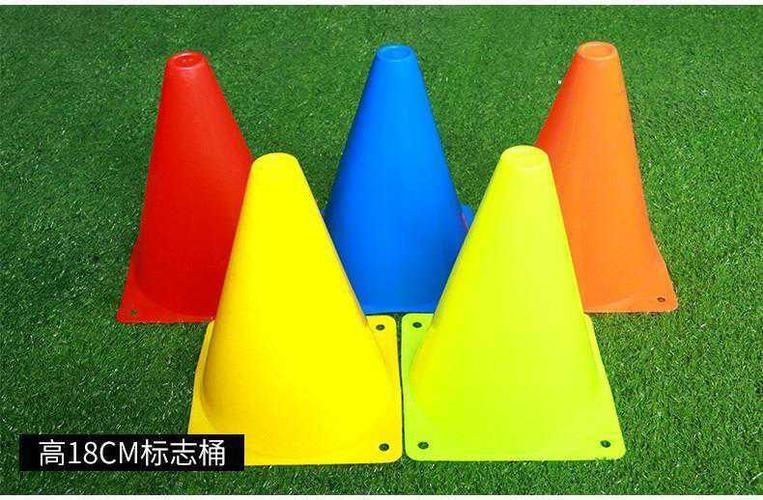cone_barrel: (454, 48, 664, 385), (411, 141, 636, 453), (185, 147, 401, 458), (318, 48, 472, 316), (109, 51, 257, 327), (537, 42, 683, 305)
